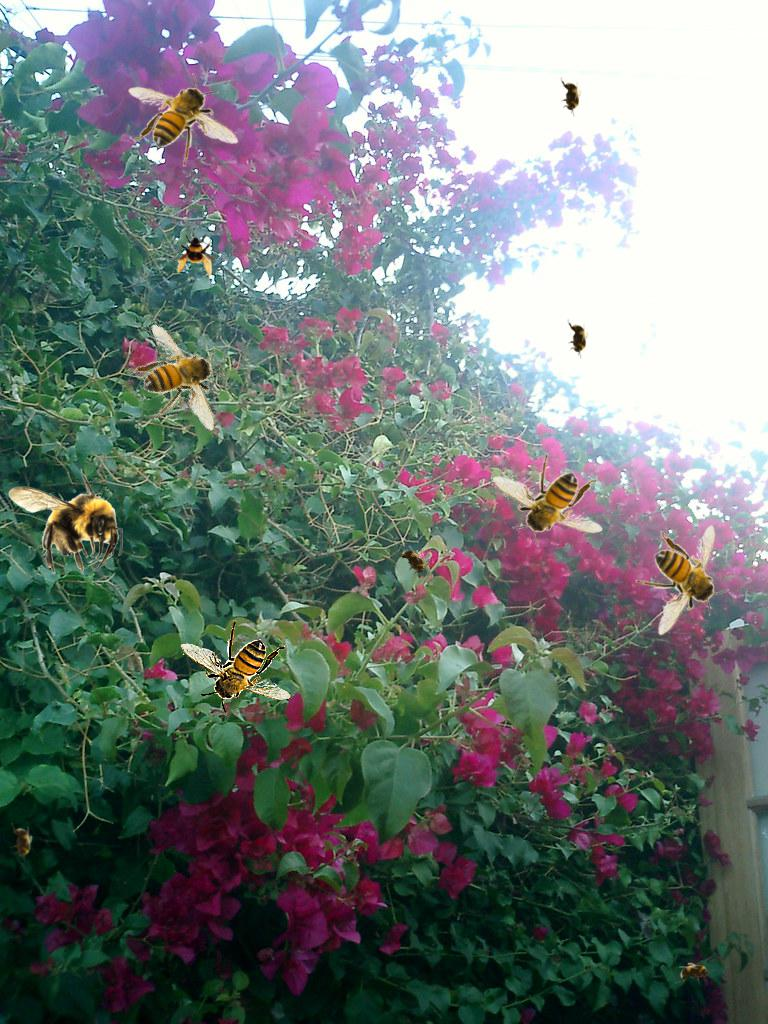Bee: (108, 310, 253, 452), (8, 468, 123, 575), (128, 73, 239, 167), (492, 453, 603, 547), (635, 525, 729, 636), (180, 620, 291, 714), (175, 232, 219, 276), (393, 539, 435, 585), (560, 77, 582, 117), (675, 962, 715, 984), (567, 319, 589, 359), (11, 823, 33, 863)
